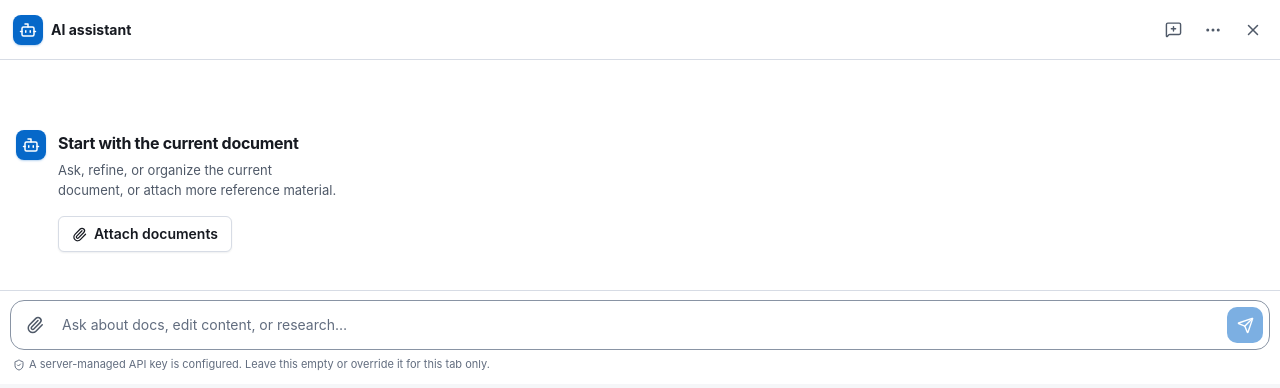
ChatPanel › exposes panel state, log, and composer semantics with IME-safe submission
Check: the text "server-managed API key" is shown, box x1=29 y1=357 x2=490 y2=371
Click the button named "More AI actions" at (1213, 30), box x1=1195 y1=12 x2=1231 y2=48
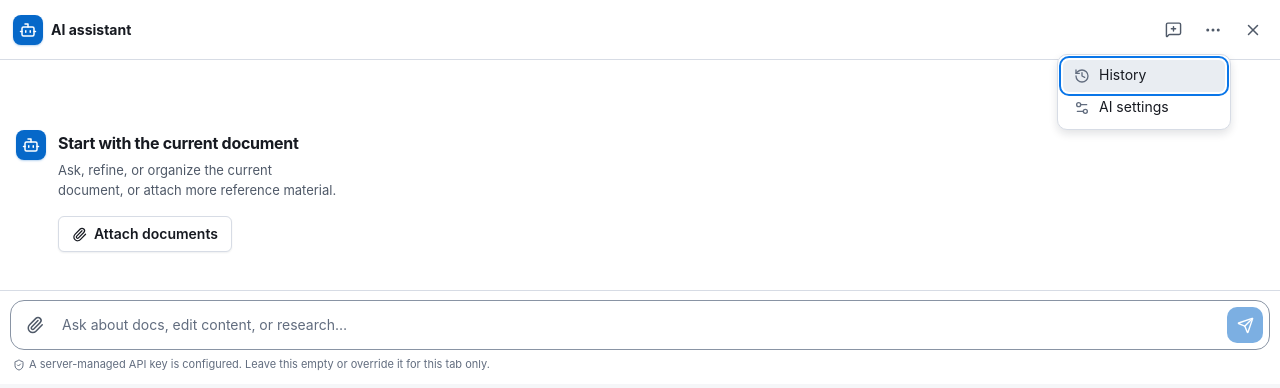
Check: the menu item "History" is shown, box x1=1063 y1=60 x2=1225 y2=92
Check: the menu item "AI settings" is shown, box x1=1063 y1=92 x2=1225 y2=124
Press Escape
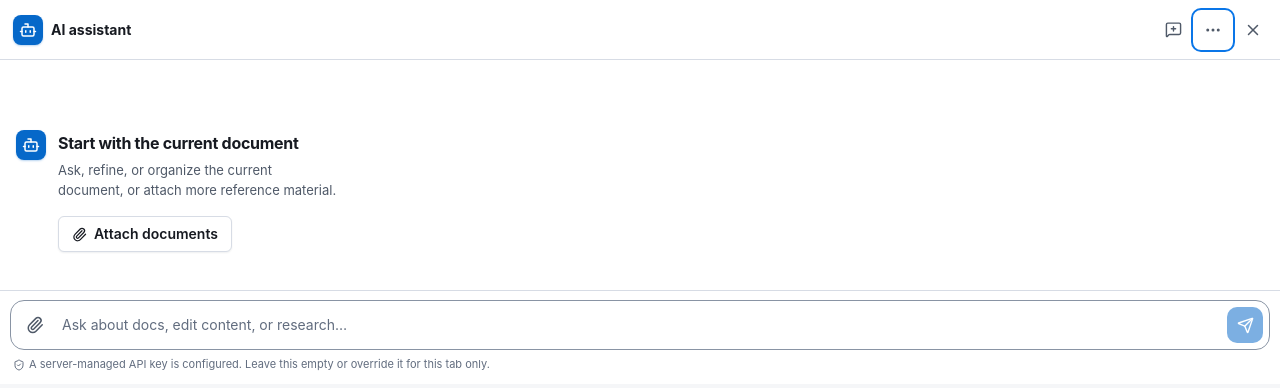
Type "IME message" into the text box at (640, 325), box x1=58 y1=307 x2=1222 y2=343
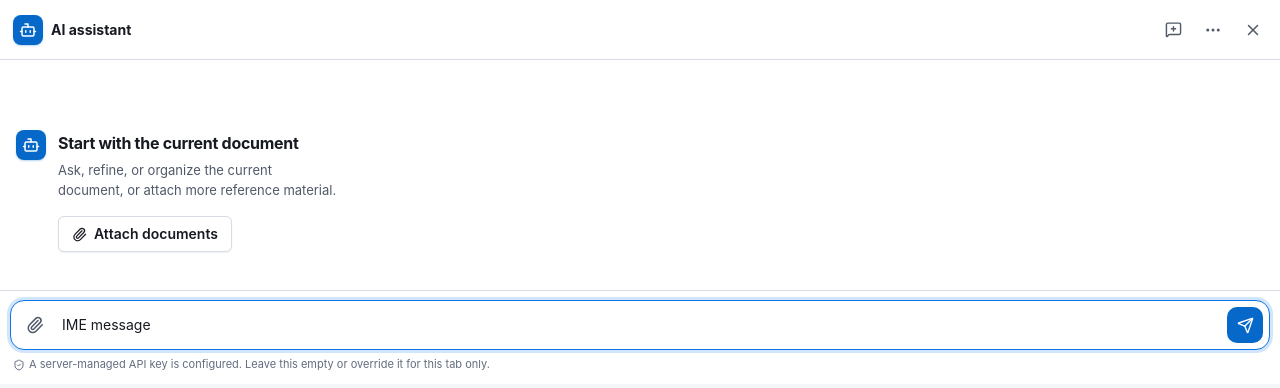
Press Enter in the text box, box x1=58 y1=307 x2=1222 y2=343
Check: the text "Hello" is not shown
Press Enter in the text box, box x1=58 y1=307 x2=1222 y2=343
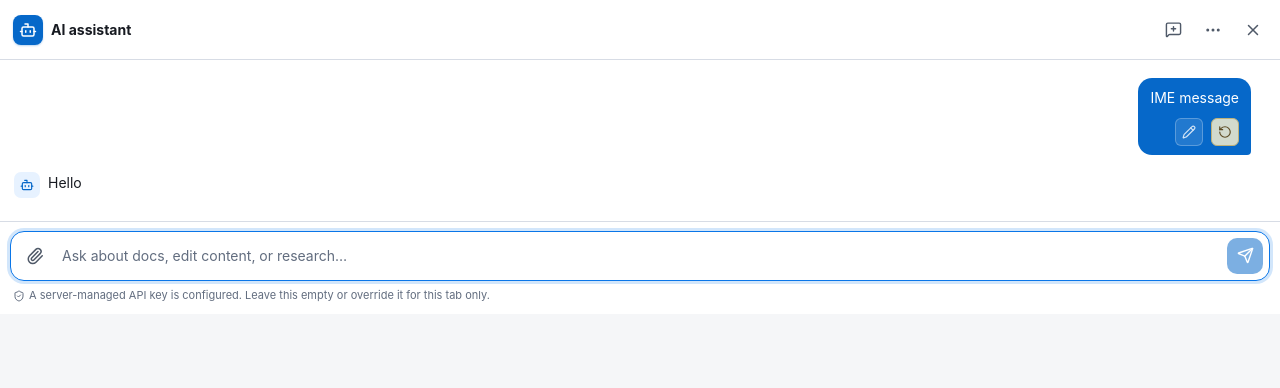
Check: the text "Hello" is shown, box x1=48 y1=172 x2=82 y2=194
